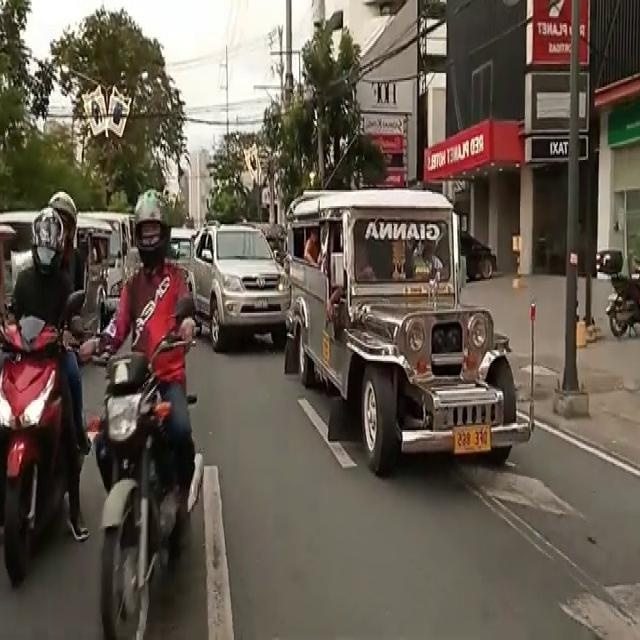car: (189, 221, 276, 347)
jeepney: (286, 192, 490, 448)
motorcycle: (112, 222, 188, 612), (8, 227, 84, 566)
